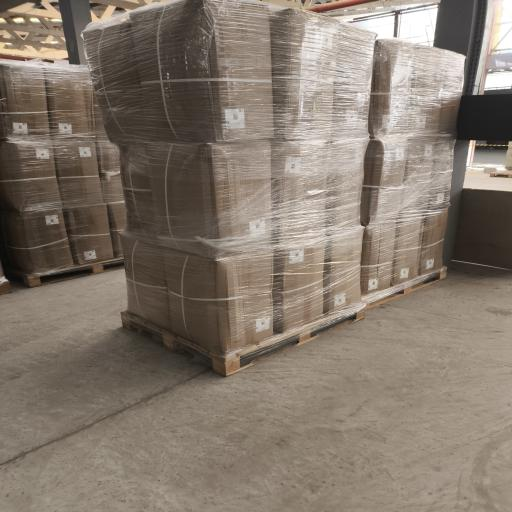pallet: (121, 304, 364, 376), (362, 267, 447, 309), (7, 258, 124, 287), (0, 280, 11, 295), (490, 171, 511, 178)
